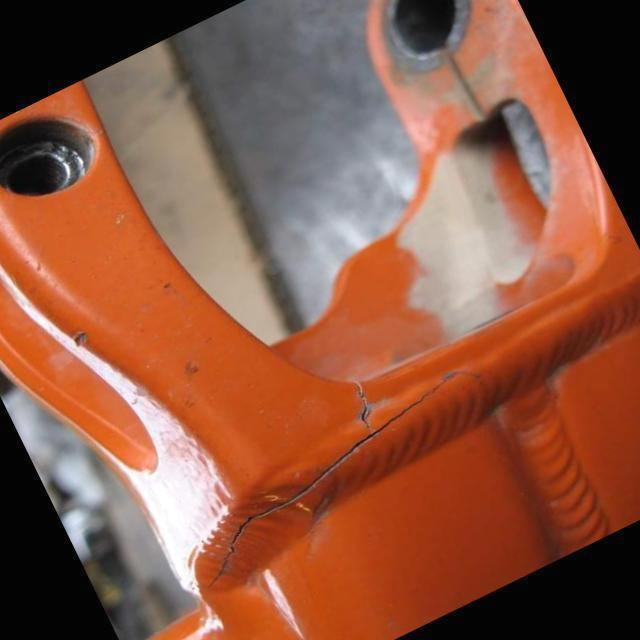defect: (193, 368, 485, 590)
